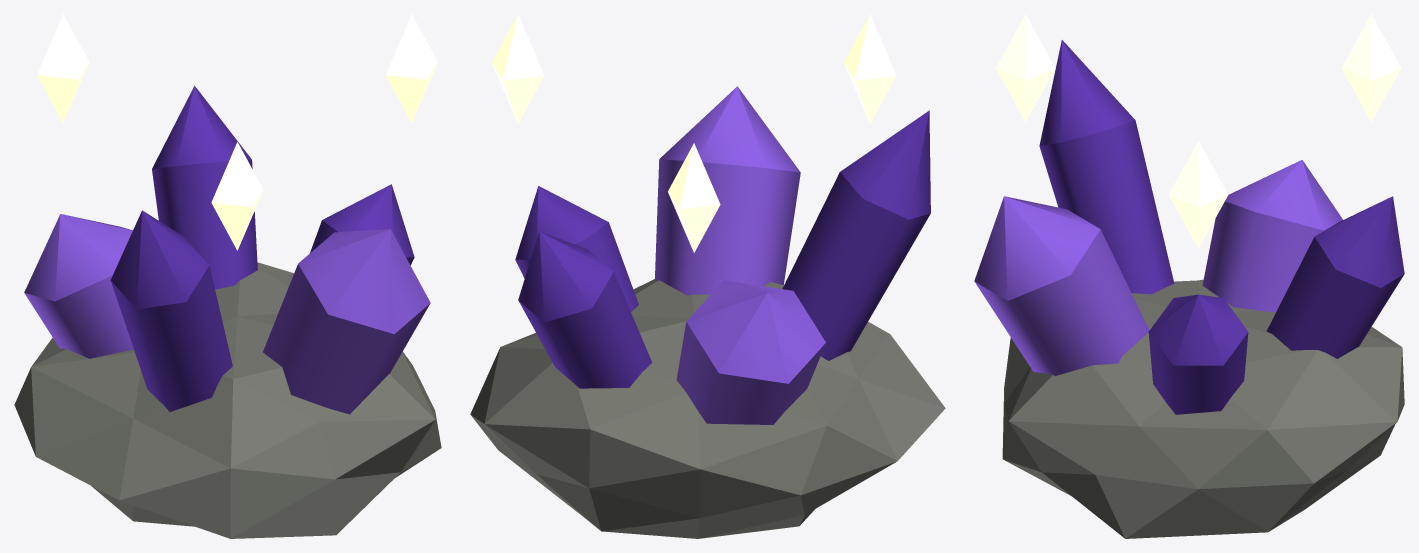
Rendered from BreakableGems.glb.
3 views of the same model, side by side, from view 1: azimuth 30°, elevation 25°; view 2: azimuth 150°, elevation 25°; view 3: azimuth 270°, elevation 25° (orthographic).
Visible parts, largest first — view 1: Body, HoverGlint; view 2: Body, HoverGlint; view 3: Body, HoverGlint.
Boxes of the visible parts, box(x1,y1,x2,y2) form: Body: box(14, 85, 441, 538); HoverGlint: box(37, 14, 437, 250); Body: box(470, 86, 945, 538); HoverGlint: box(492, 14, 896, 252); Body: box(974, 40, 1404, 538); HoverGlint: box(996, 14, 1401, 248).
Bounding box in the file's own units: 1.85 × 1.93 × 1.73.
Materials: 2 (1 with a texture image).
